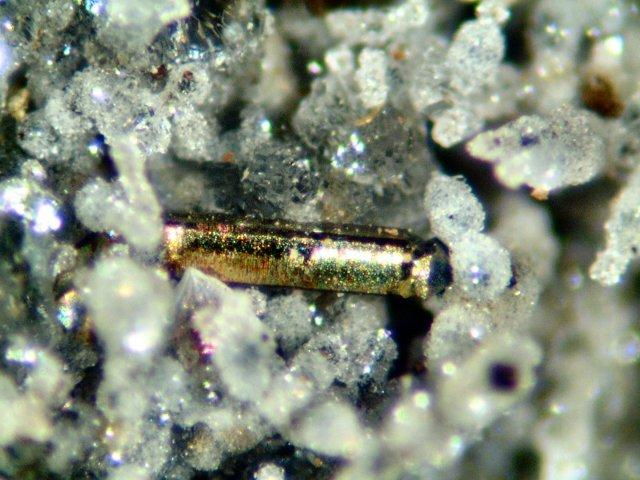pyrite: (242, 104, 436, 236), (163, 216, 452, 303), (161, 5, 260, 92)
